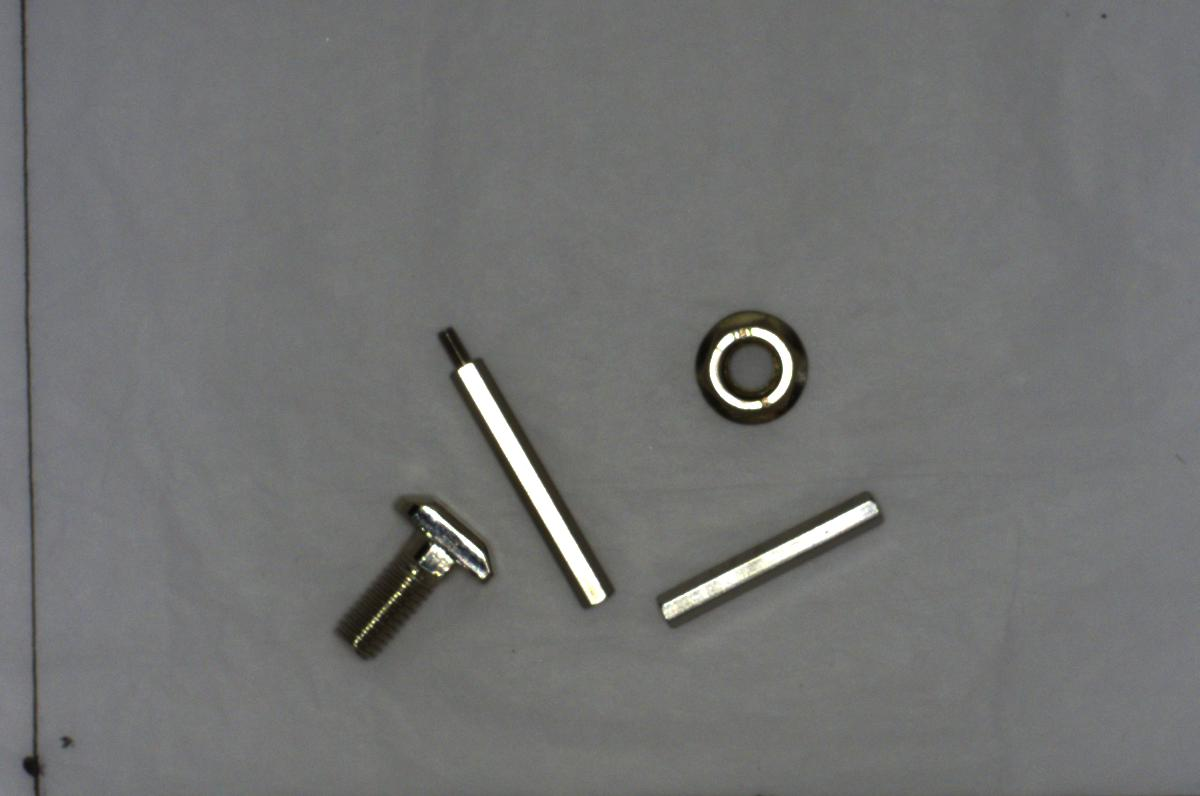Double hexagonal column: (647, 490, 886, 629)
Flange nut: (685, 301, 810, 429)
Hexagonal steel column: (424, 315, 618, 616)
T-shaped screw: (322, 488, 499, 662)
